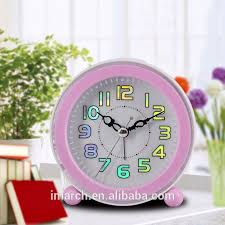alarm_clock: (51, 57, 192, 206)
